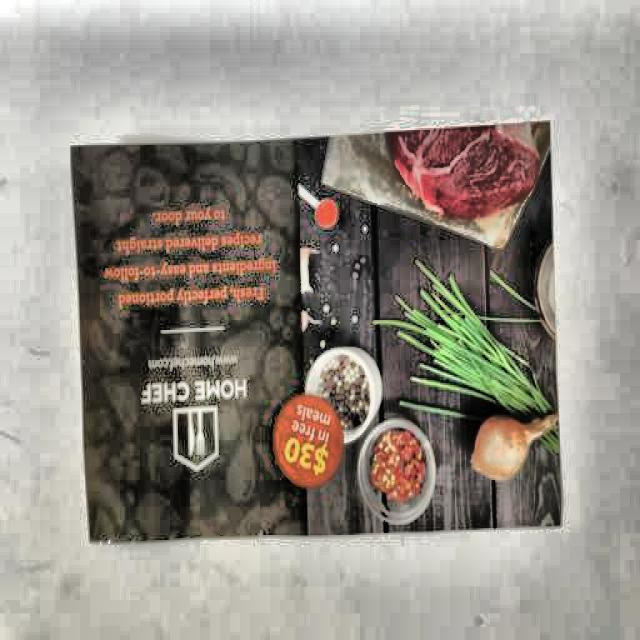paper: (64, 127, 568, 542)
